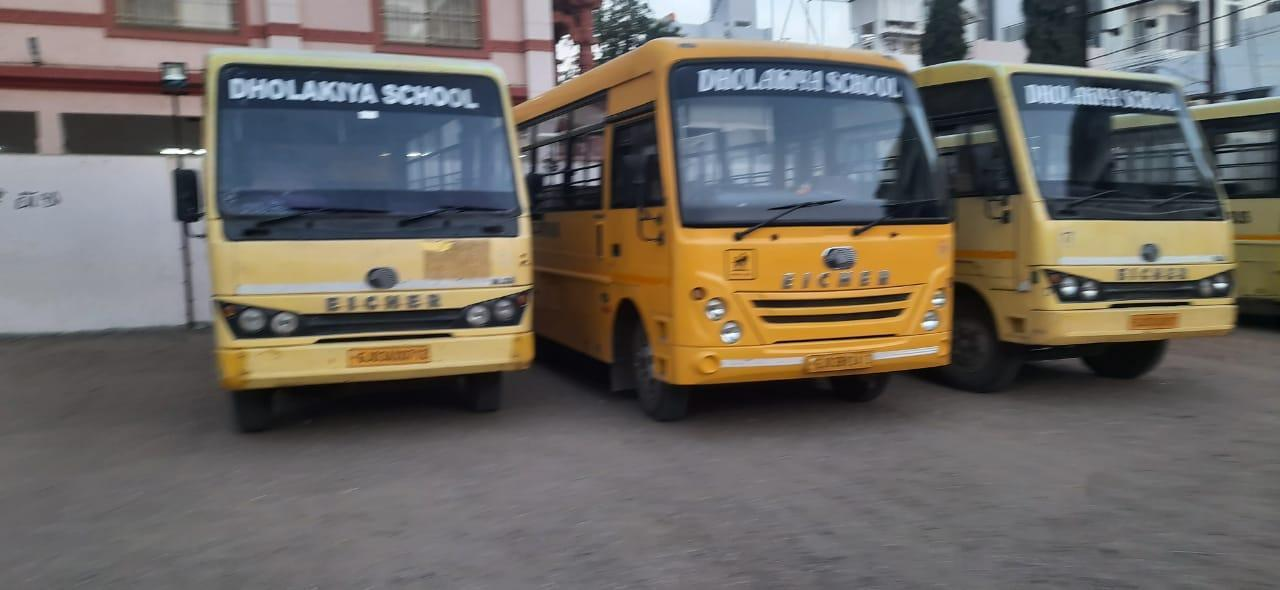Bus: (160, 33, 565, 446), (553, 32, 962, 430), (963, 48, 1244, 387)
